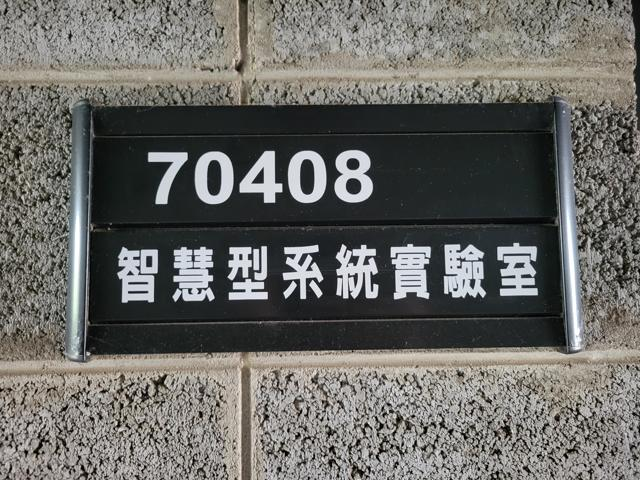doorplate: (66, 96, 588, 360)
